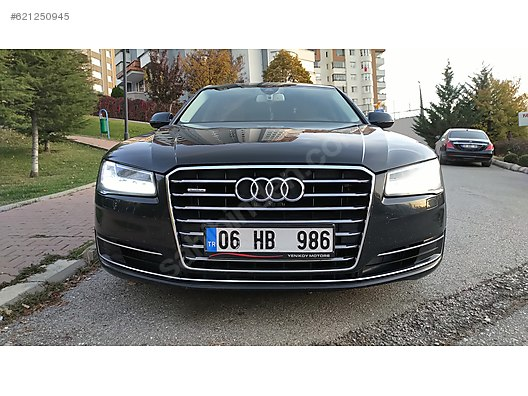audi: (226, 173, 310, 215)
